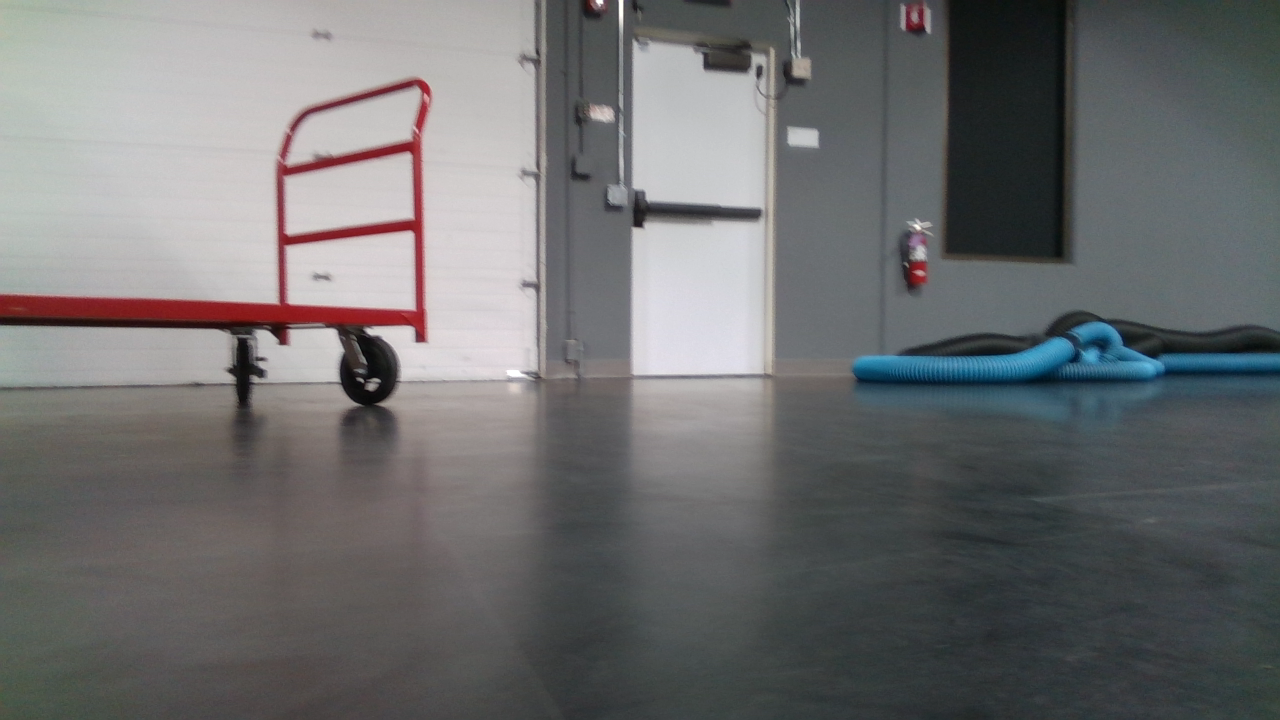Dolly: (0, 76, 436, 414)
Wheel: (336, 324, 402, 409), (221, 331, 269, 399)
